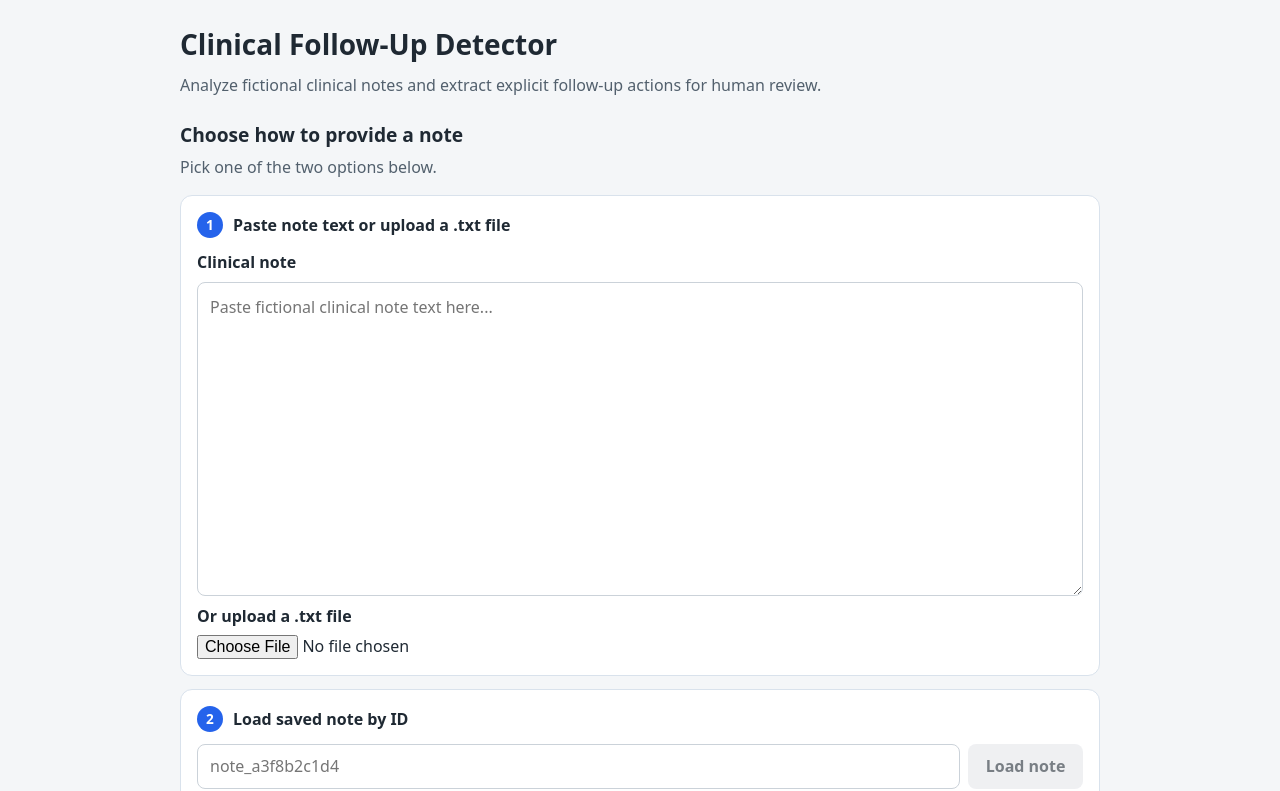
Test case: analyze flow › renders successful empty-actions state
Type "Patient feels well today." into the text box labelled "Clinical note". click: (640, 439)
box: [197,282,1083,596]
(page scrolled)
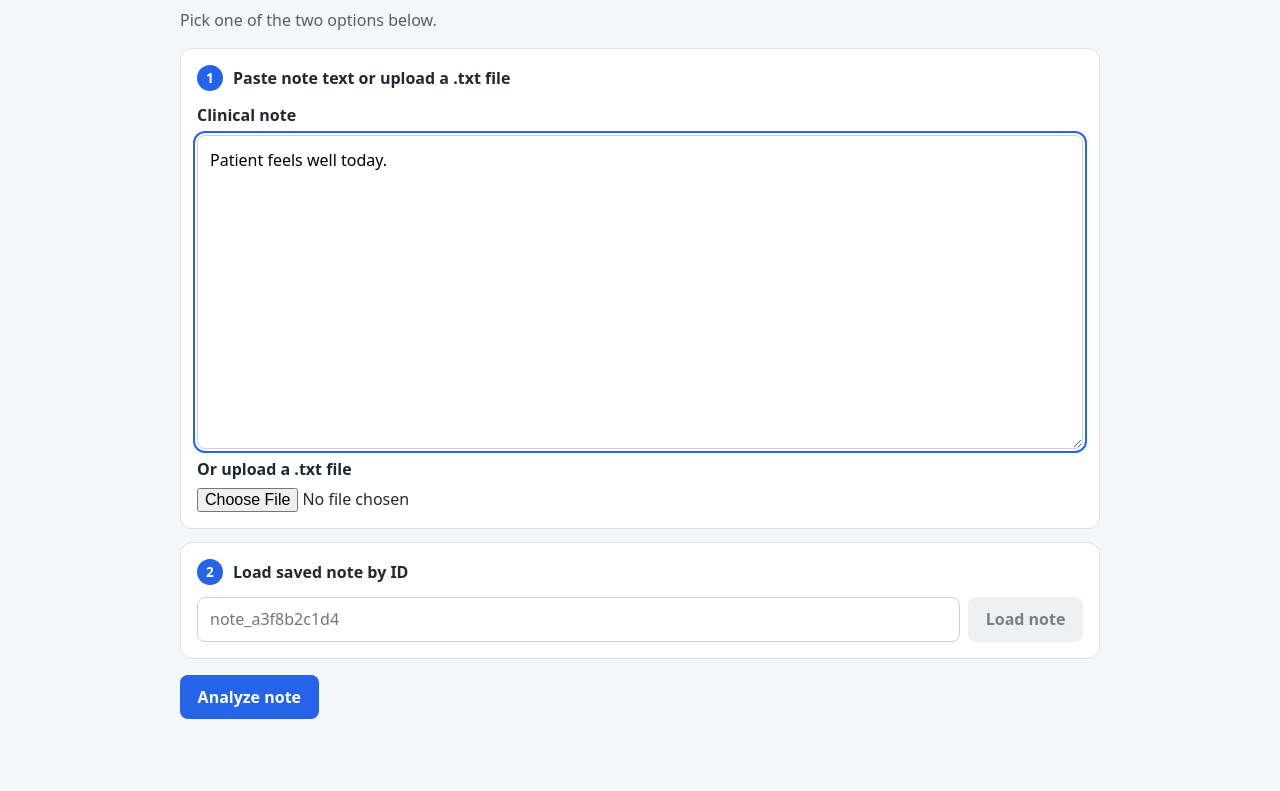
Click the button "Analyze note". click: (249, 697)
box: [180,674,319,719]
(page scrolled)
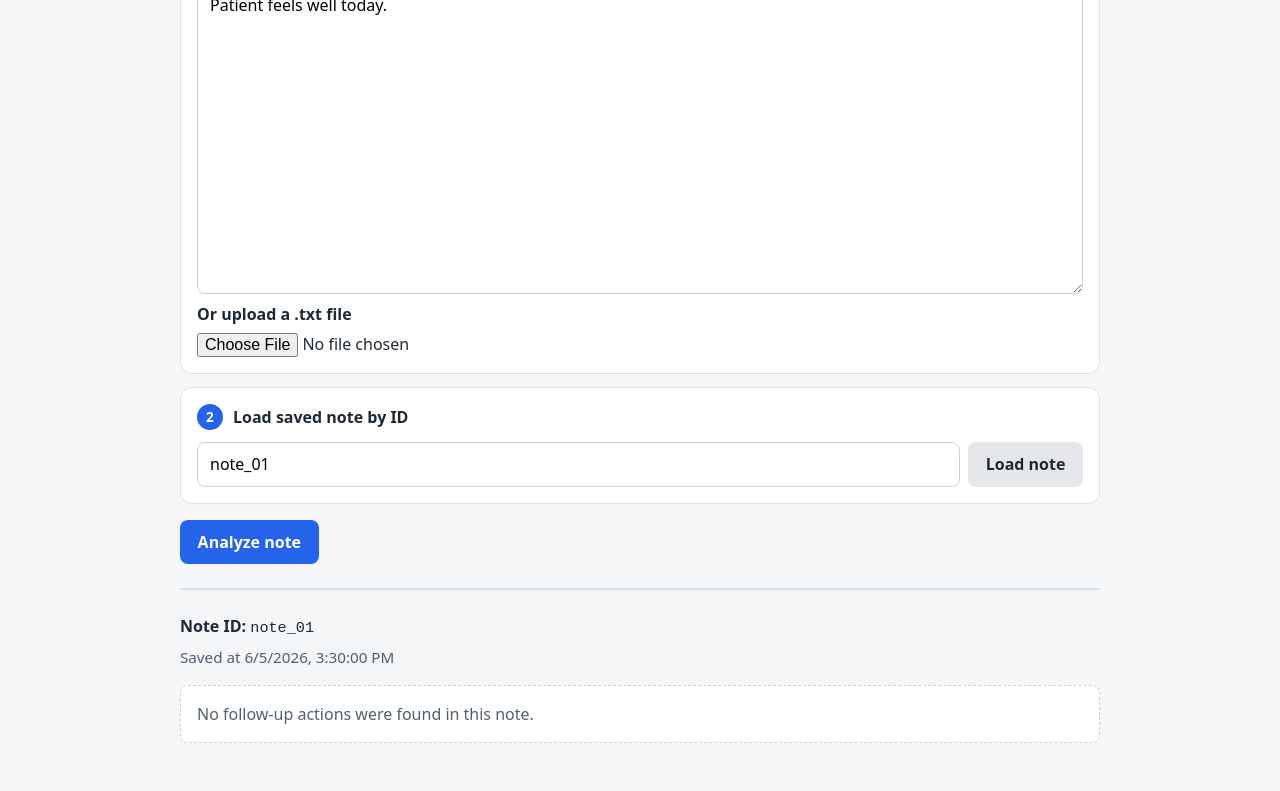
Result: the text "No follow-up actions were found in this note." is shown at [197,702,534,724]
